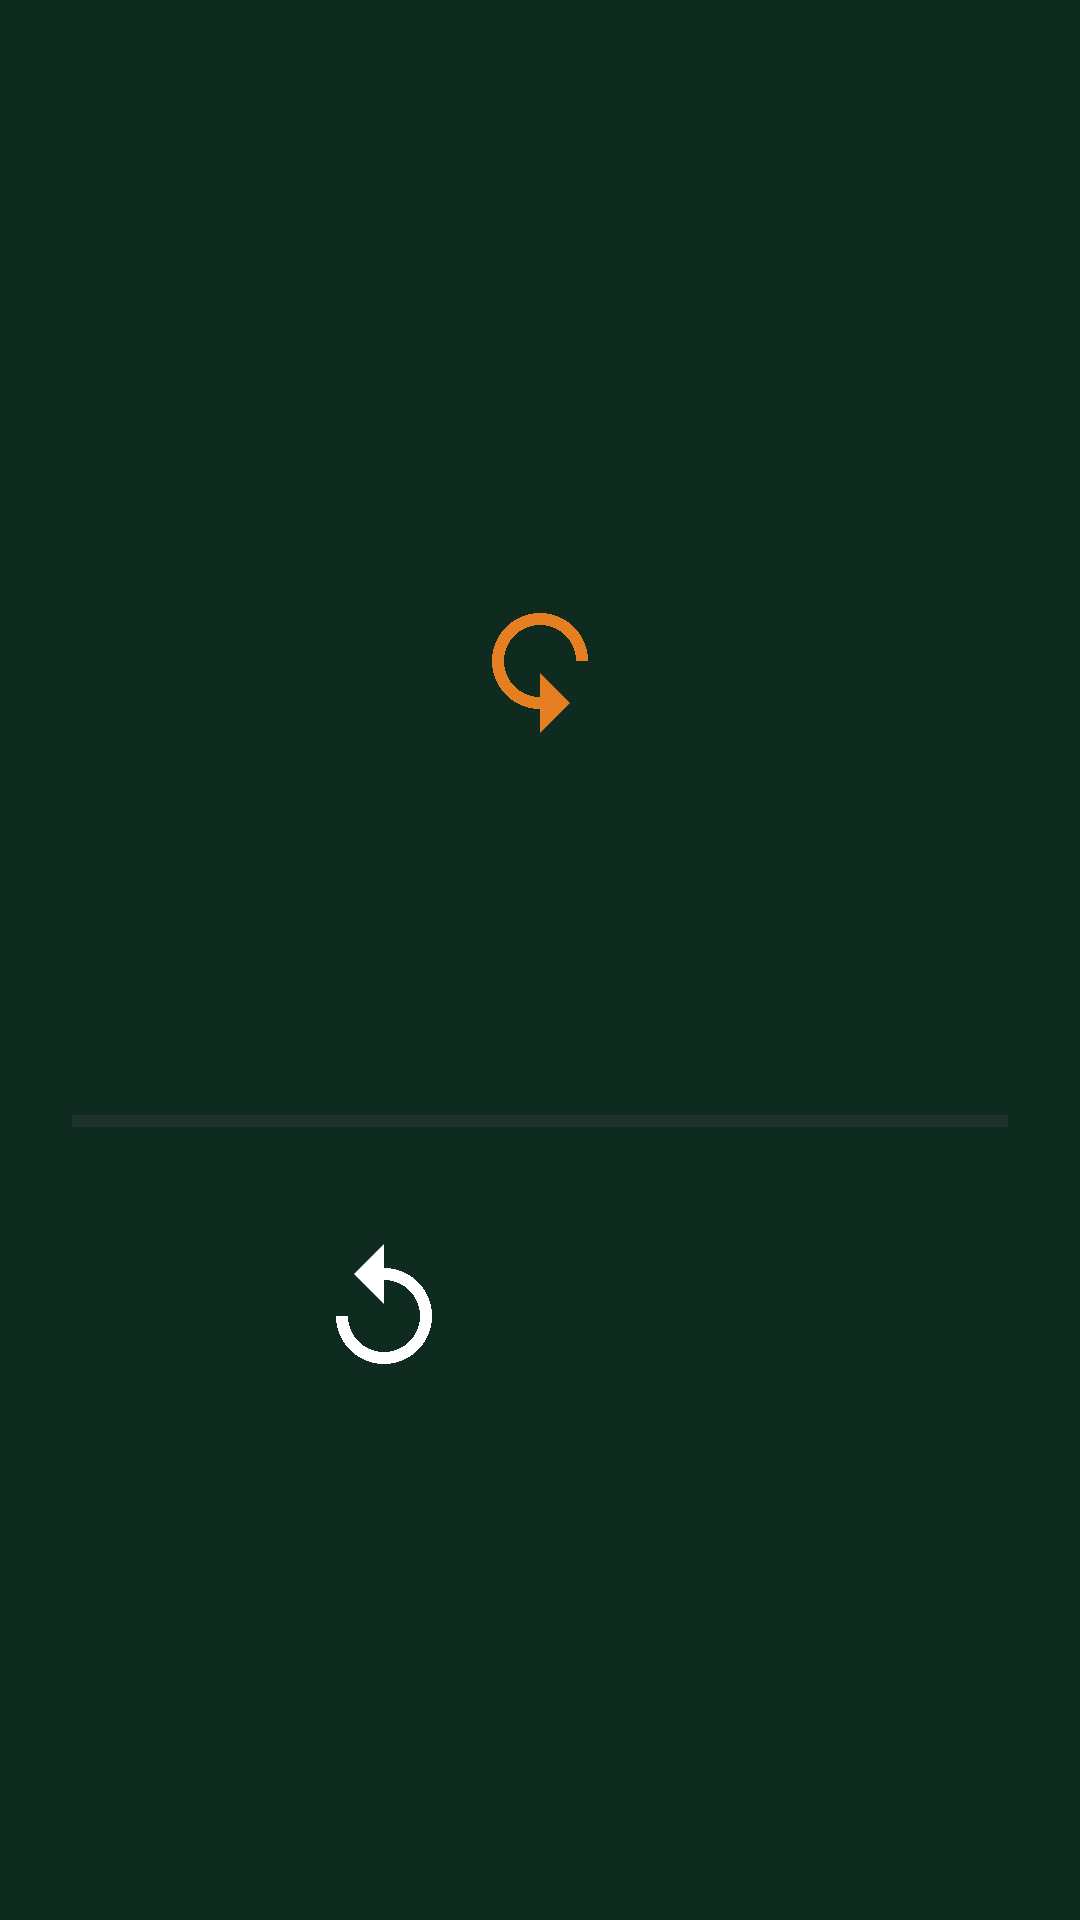

Where icons sit on this 1080px×1920px app screen, as box=[x1, y1, x2, y2]:
Réécouter: box=[336, 1244, 432, 1364]
